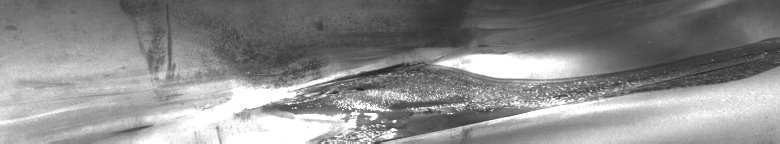ke: (256, 44, 776, 136)
